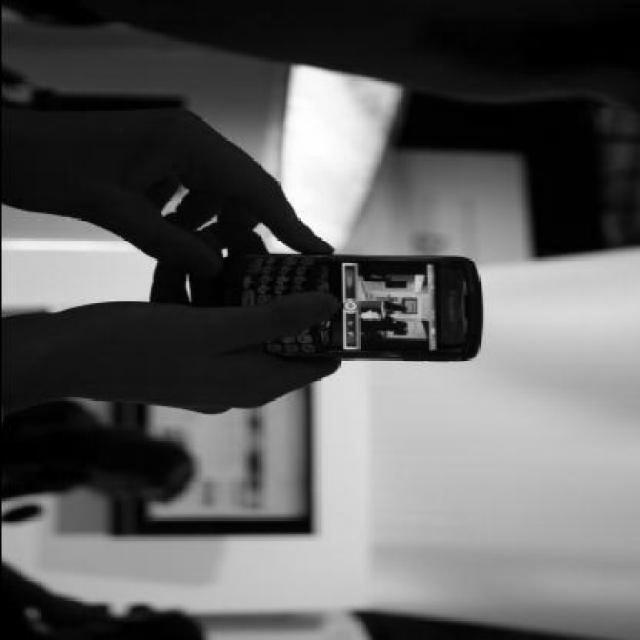fake: (248, 246, 498, 363)
